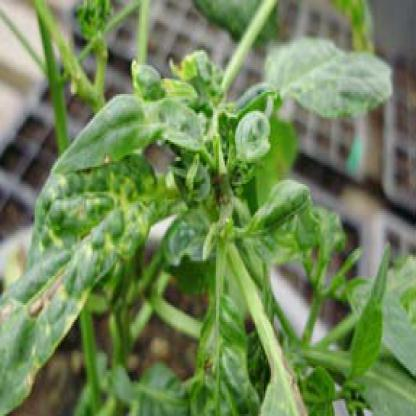tomato leaf mosaic virus: (6, 150, 167, 399), (235, 180, 322, 274), (196, 295, 261, 414)
